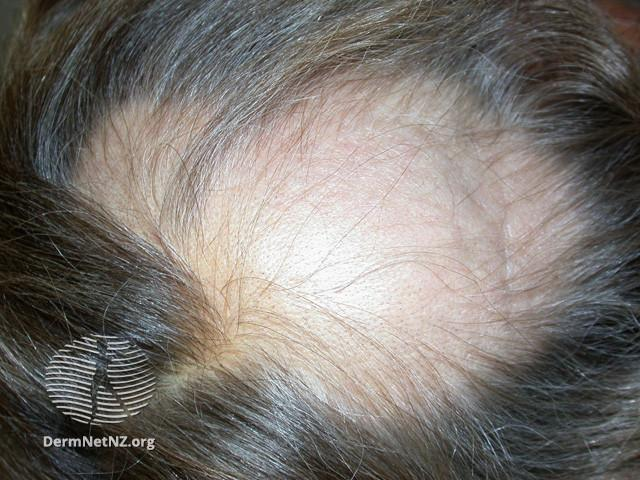Alopecia Areata: (192, 118, 521, 375), (103, 105, 175, 219)
